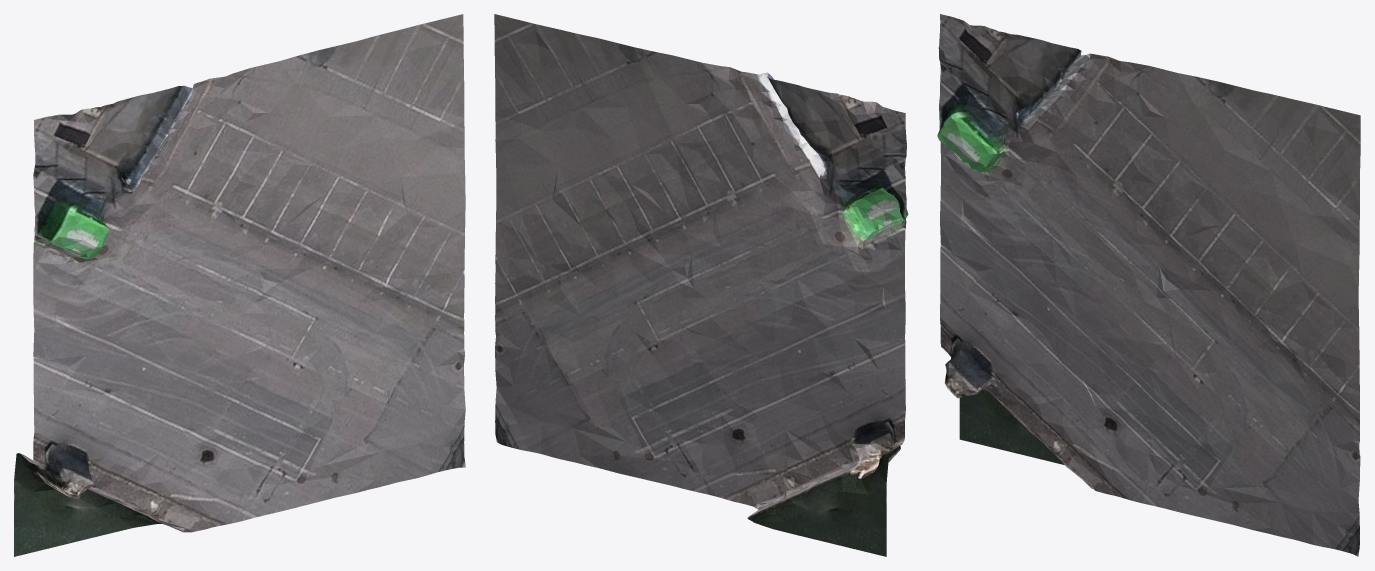
The model's file is Tile_+038_+019_L21_00002200.obj.
3 views of the same model, side by side, from view 1: azimuth 30°, elevation 25°; view 2: azimuth 150°, elevation 25°; view 3: azimuth 330°, elevation 25° (orthographic). The views are drawn at different scales.
Size of the model in its own units: 31.31 by 31.38 by 4.29.
1 material, 1 textured.
